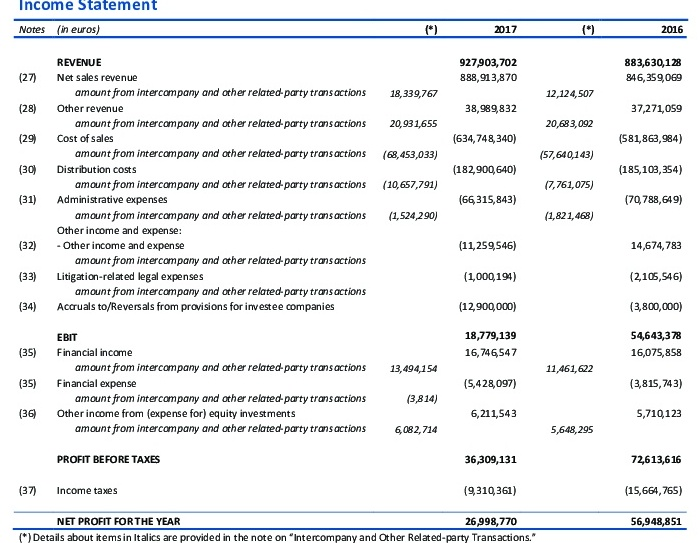table: (0, 0, 699, 543)
